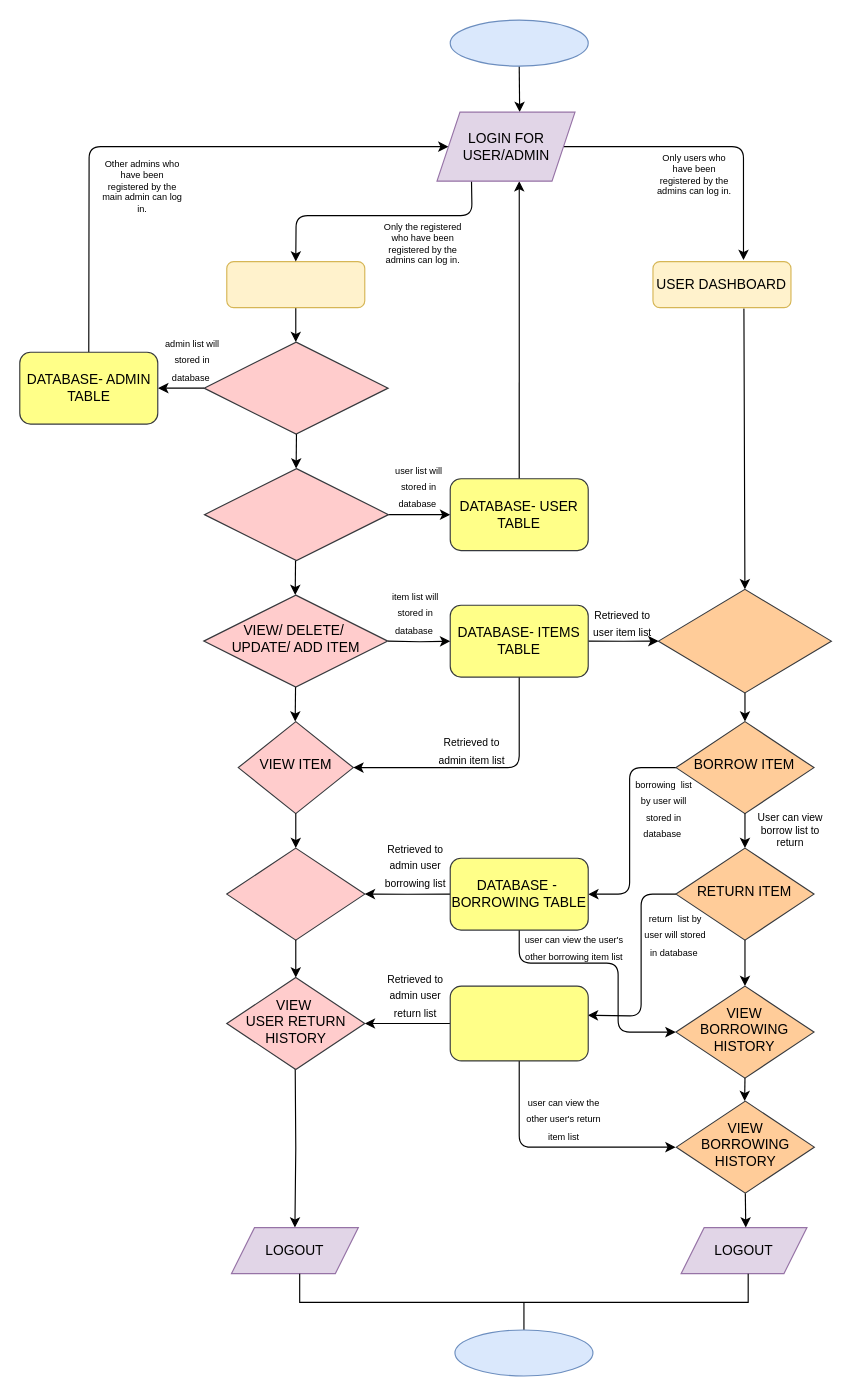
Image size: 852x1396. Some labels were removed from this diagram. Each missing label, with the centre of its shape:
ADMIN DASHBOARD: pixel 295 284
DATABASE- RETURN TABLE: pixel 518 1023
END: pixel 523 1352
START: pixel 518 42
VIEW USER BORROWING HISTORY: pixel 295 893
VIEW/ DELETE/ UPDATE/ ADD ADMIN: pixel 295 387
VIEW/ DELETE/ UPDATE/ ADD USER: pixel 295 514
VIEW/SEARCH/ADD TO CART ITEMS: pixel 744 640
